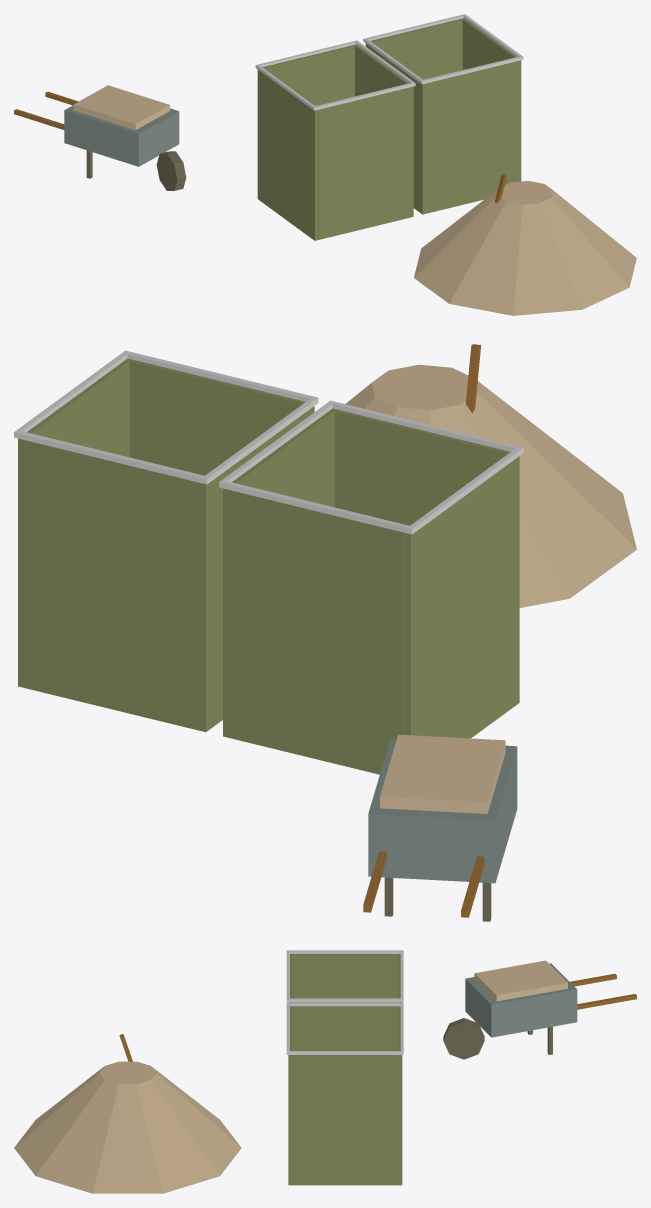
Rendered from SM_ObraHescoAbierto_v4_8m_LOD0.fbx.
3 renders of one model, top to bottom at view 1: azimuth 30°, elevation 25°; view 2: azimuth 150°, elevation 25°; view 3: azimuth 270°, elevation 25°, orthographic. The views are drawn at different scales.
Parts seen in each view (by area): view 1: SM_obra_curso_v28_LOD0; view 2: SM_obra_curso_v28_LOD0; view 3: SM_obra_curso_v28_LOD0.
Boxes of the visible parts, left/top/right/bottom form: SM_obra_curso_v28_LOD0: left=14, top=14, right=636, bottom=315; SM_obra_curso_v28_LOD0: left=14, top=344, right=636, bottom=921; SM_obra_curso_v28_LOD0: left=14, top=950, right=636, bottom=1193.
Bounding box in the file's own units: 4.02 × 1.44 × 6.02.
